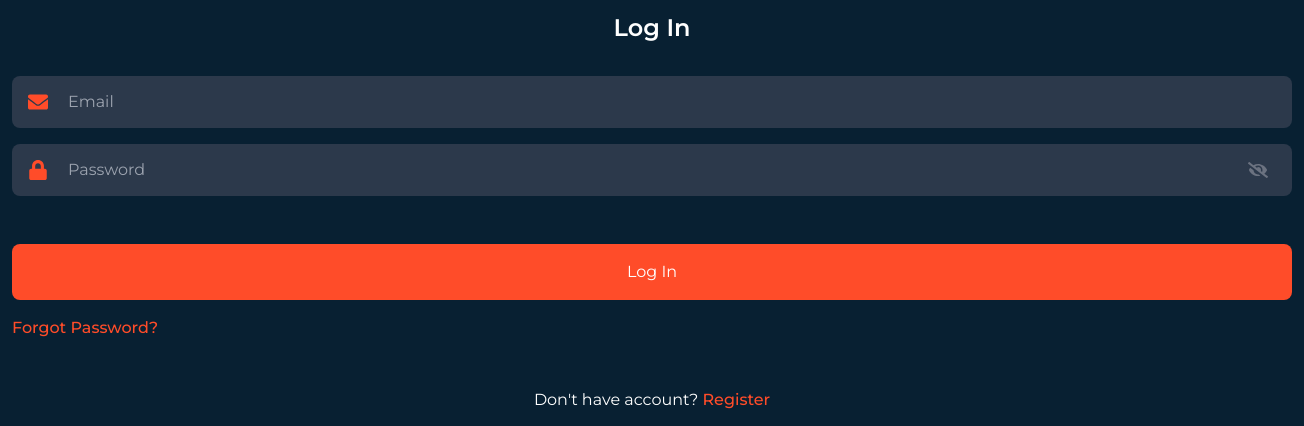
should render a fail alert and red borders with invalid credentials
Type "testuser@gmail.com" into the field with placeholder "Email" at (652, 102), box [12,76,1292,128]
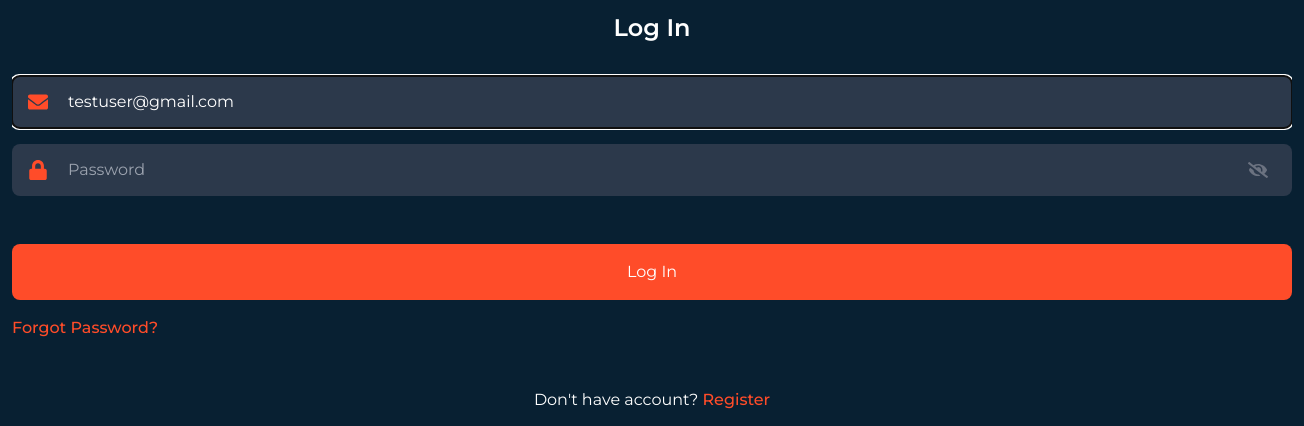
Type "testpassword" into the password field with placeholder "Password" at (652, 170), box [12,144,1292,196]
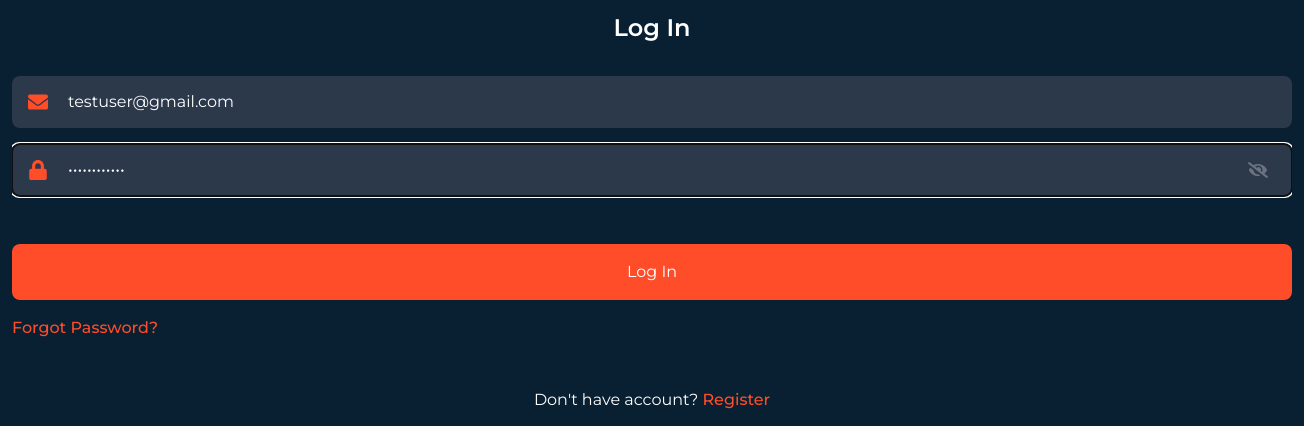
Click the button with test id "login" at (652, 272), box [12,244,1292,300]
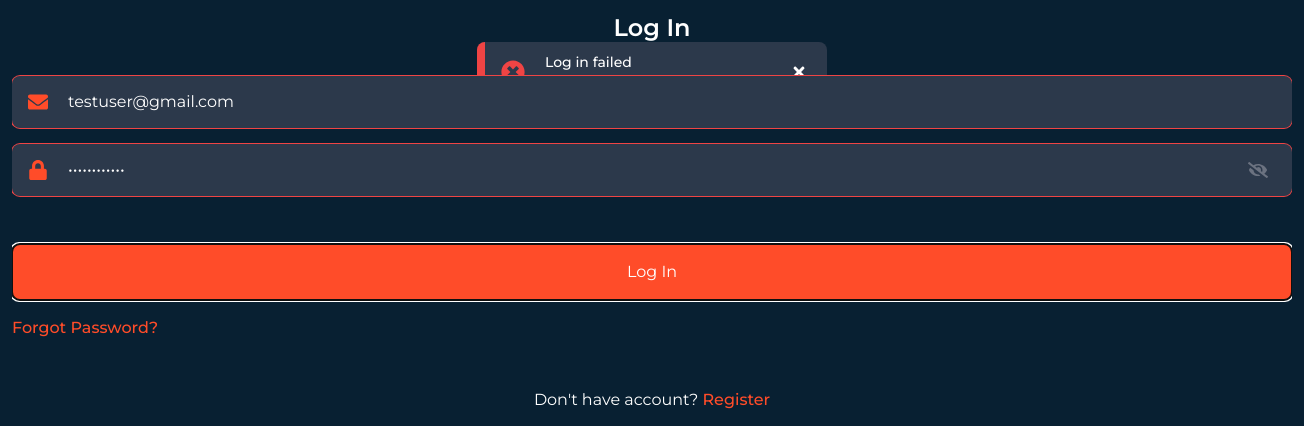
Check: the text "Your email/password is incorrect" is shown, box [545,72,771,92]
